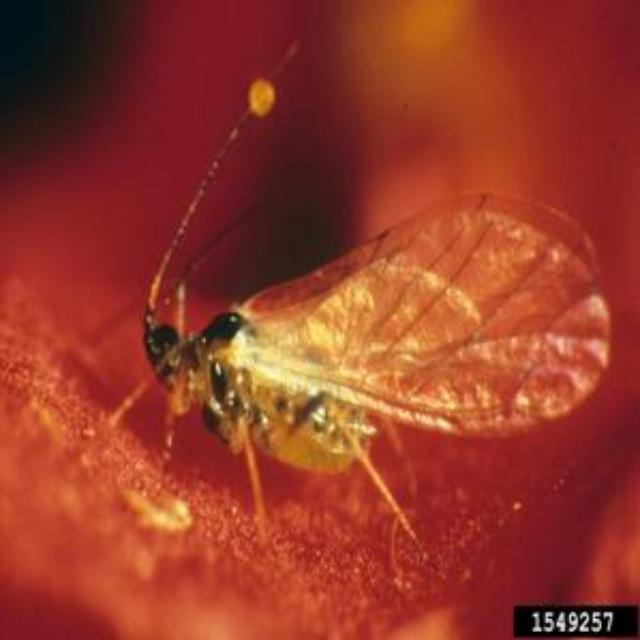Green peach aphid: (62, 23, 622, 595)
